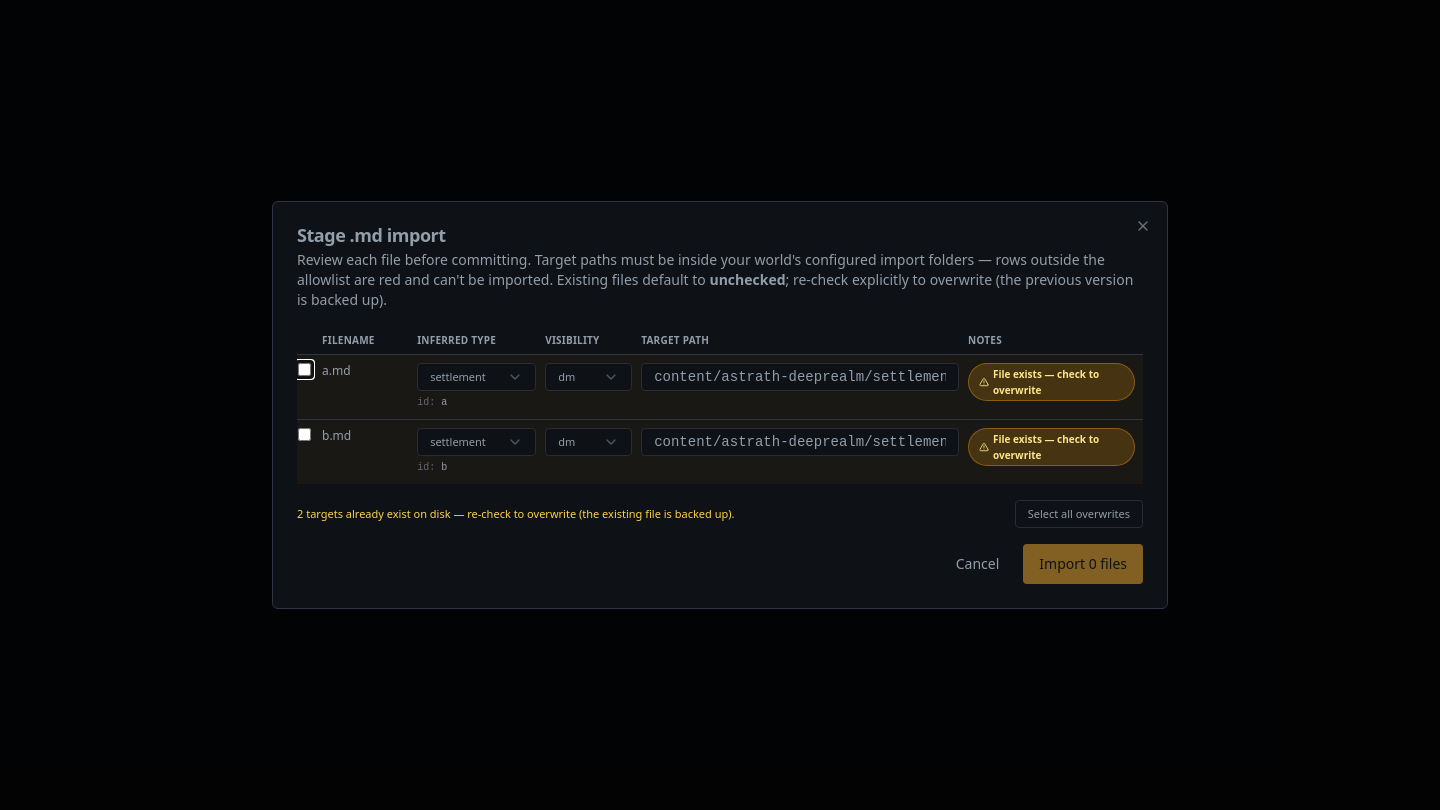
Scenario: ImportStagingModal › 'Select all overwrites' checks all unchecked path-collision rows at once
Expected: the checkbox named "Include a.md" is not checked, [298,363,311,376]
Expected: the checkbox named "Include b.md" is not checked, [298,428,311,441]
Click the button "Select all overwrites".
click(1079, 514)  # box [1015,500,1143,528]
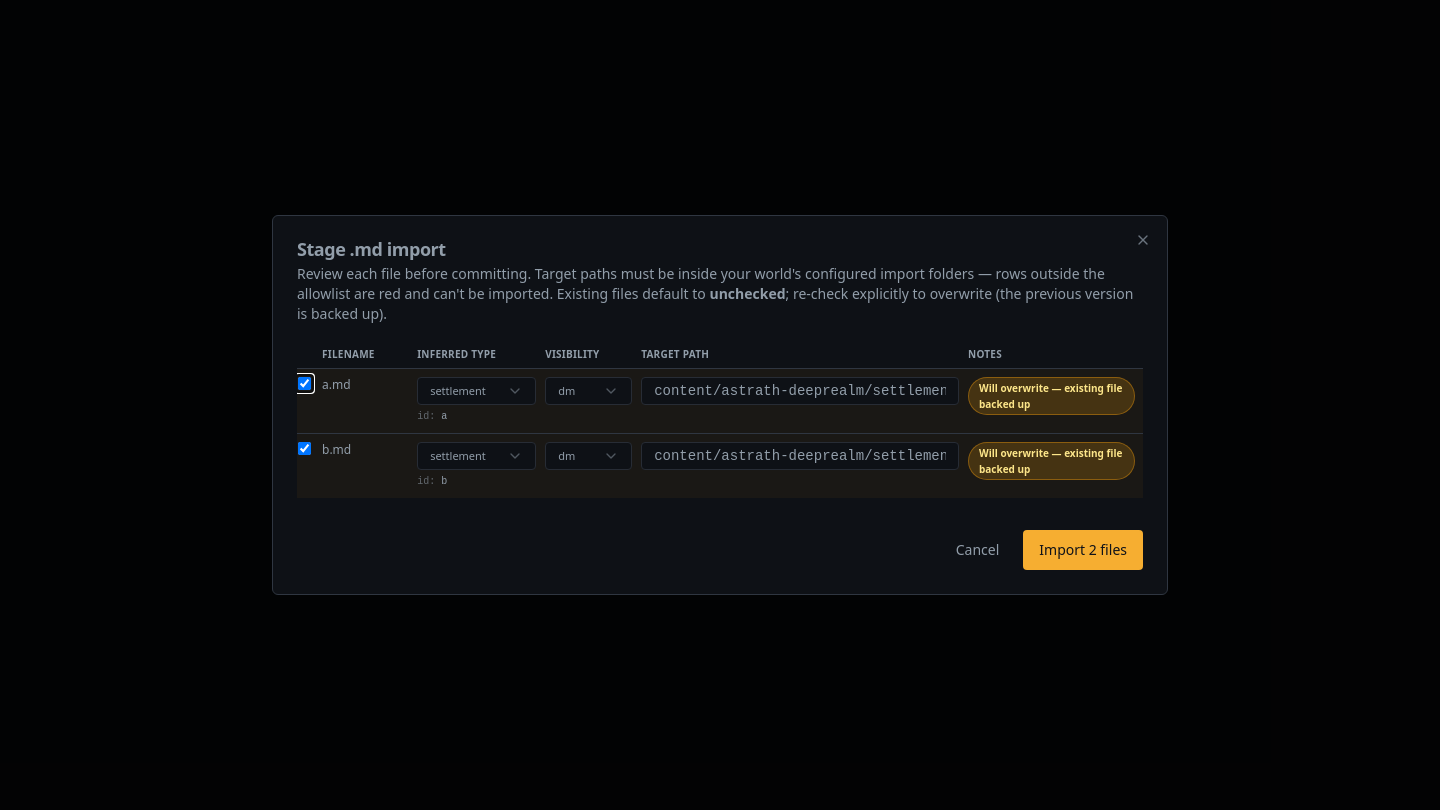
Expected: the checkbox named "Include a.md" is checked, [298,377,311,390]
Expected: the checkbox named "Include b.md" is checked, [298,442,311,455]
